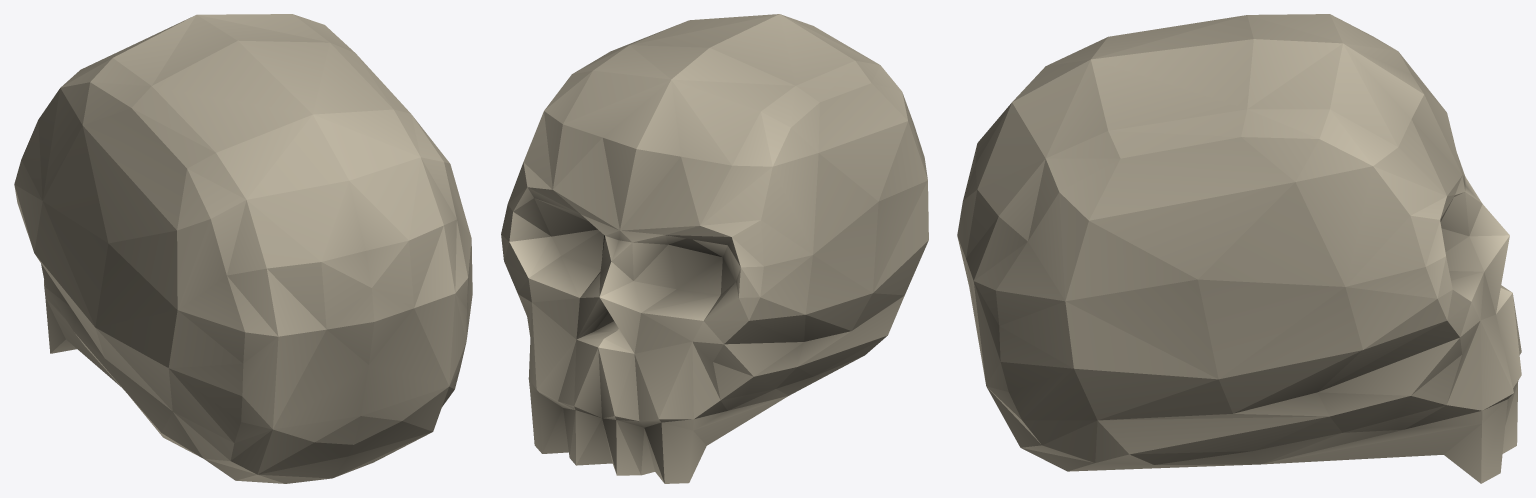
File: obj_skull_LOW.FBX
3 renders of one model, left to right at view 1: azimuth 30°, elevation 25°; view 2: azimuth 150°, elevation 25°; view 3: azimuth 270°, elevation 25°, orthographic. The views are drawn at different scales.
Parts seen in each view (by area): view 1: obj_skull_LOW; view 2: obj_skull_LOW; view 3: obj_skull_LOW.
Boxes of the visible parts, bbox=[...] form: obj_skull_LOW: bbox=[14, 14, 472, 483]; obj_skull_LOW: bbox=[501, 14, 928, 483]; obj_skull_LOW: bbox=[957, 14, 1521, 483].
Size of the model in its own units: 0.6305 by 0.7015 by 0.895.
